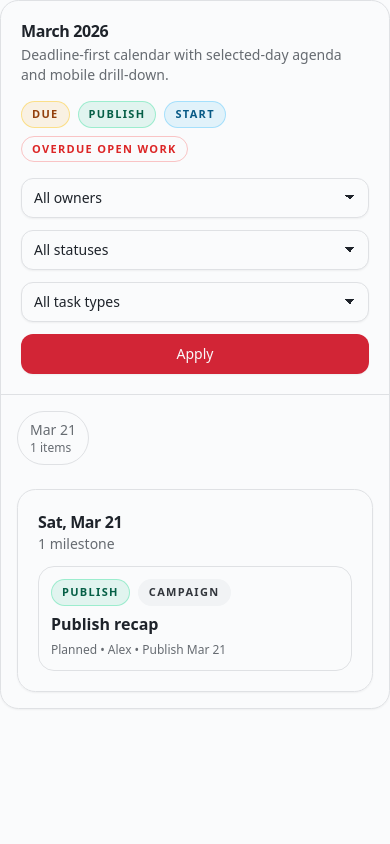
CalendarGrid › opens mobile details and links to the pipeline task view
Click the button with aria-label "Open details for Publish recap".
click(90, 592)  # box x1=38 y1=566 x2=352 y2=670
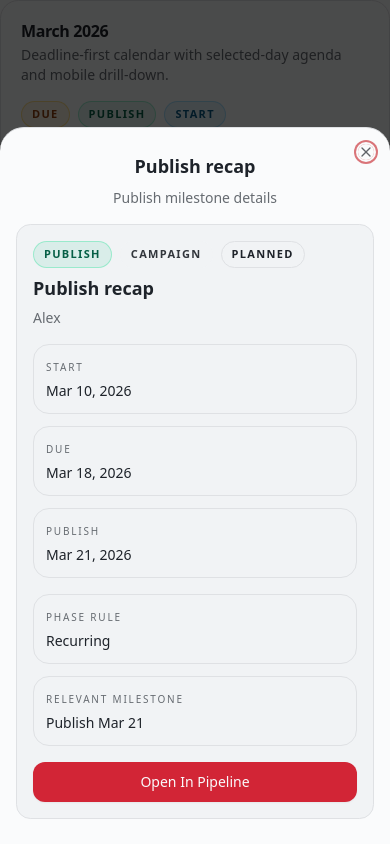
Expected: the heading "Publish recap" is shown, x1=134 y1=154 x2=255 y2=178
